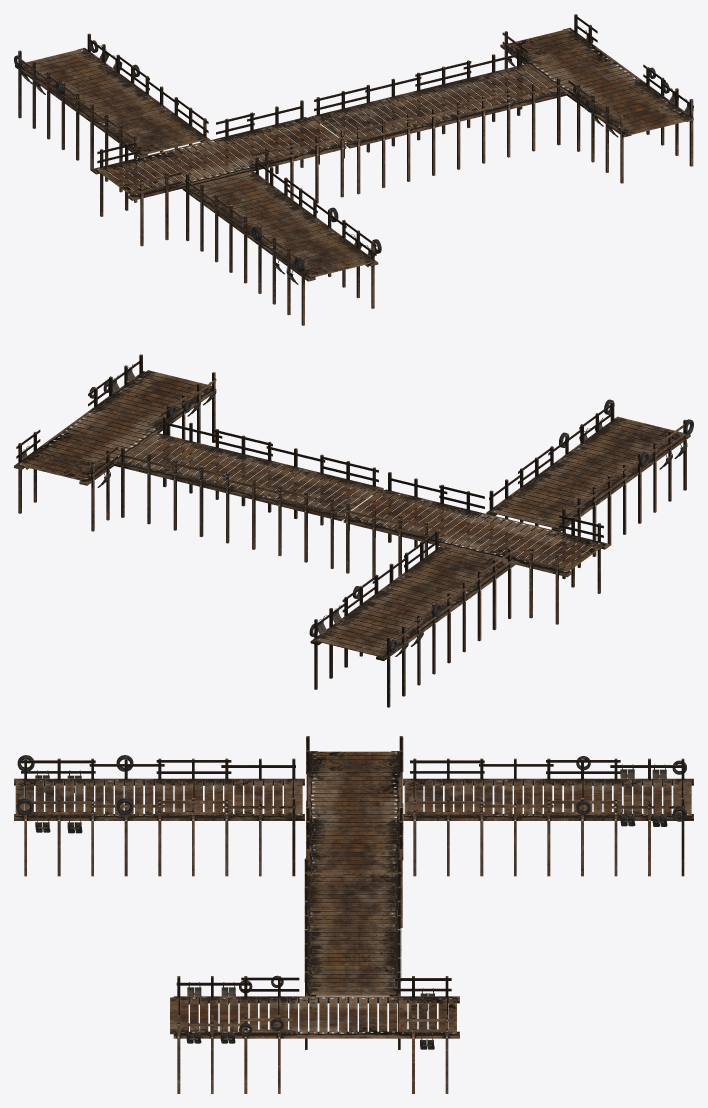
File: the_wharf_fishing_harbor_wood_39_mb.glb
The picture shows the model from 3 angles, top to bottom: view 1: azimuth 30°, elevation 25°; view 2: azimuth 150°, elevation 25°; view 3: azimuth 270°, elevation 25°; orthographic projection. The views are drawn at different scales.
Visible parts, largest first — view 1: Object_4, Object_5, Object_3, Object_2; view 2: Object_4, Object_5, Object_2, Object_3; view 3: Object_4, Object_5, Object_2, Object_3.
Part boxes in pixels (box(x1,y1,x2,y2)): Object_4: box(15, 33, 566, 325); Object_5: box(91, 14, 693, 246); Object_3: box(14, 40, 669, 272); Object_2: box(21, 30, 693, 284); Object_4: box(114, 402, 690, 707); Object_5: box(14, 354, 609, 624); Object_2: box(22, 364, 687, 656); Object_3: box(89, 381, 693, 652); Object_4: box(14, 758, 693, 1049); Object_5: box(170, 736, 459, 1093); Object_2: box(35, 764, 667, 1049); Object_3: box(16, 755, 686, 1036).
Bounding box in the file's own units: 2404 × 305 × 2394.
4 materials, 4 textured.
